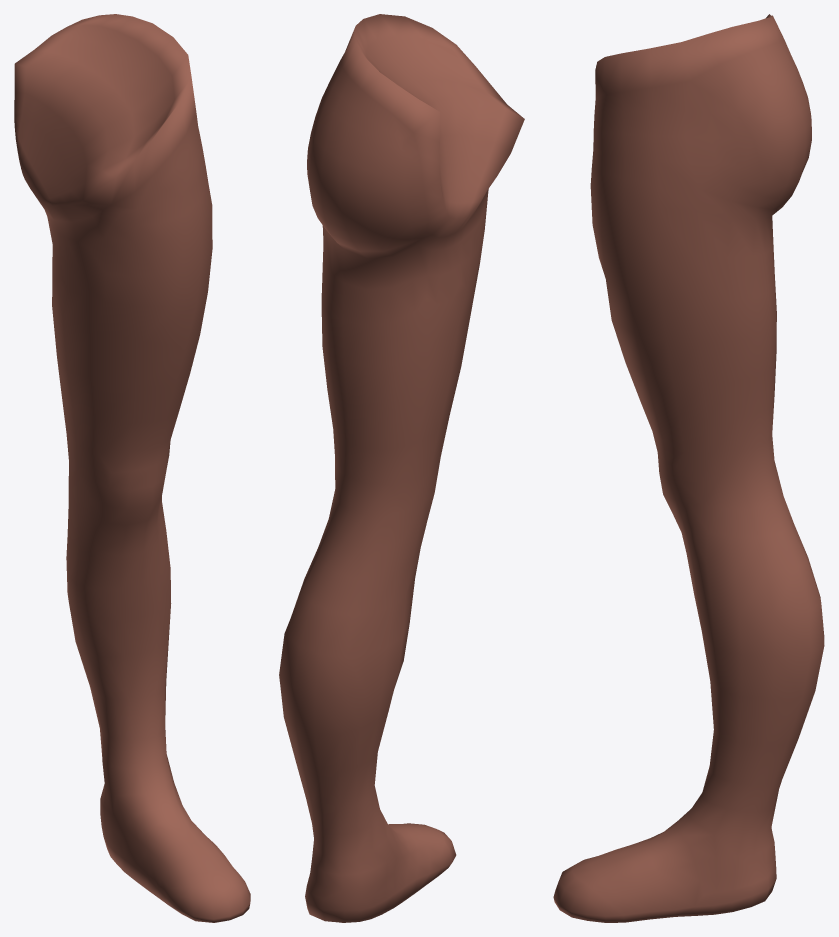
Rendered from Leg.L.fbx.
The picture shows the model from 3 angles, left to right: view 1: azimuth 30°, elevation 25°; view 2: azimuth 150°, elevation 25°; view 3: azimuth 270°, elevation 25°; orthographic projection. The views are drawn at different scales.
Parts seen in each view (by area): view 1: Leg.L; view 2: Leg.L; view 3: Leg.L.
Boxes of the visible parts, bbox=[...] form: Leg.L: bbox=[14, 14, 250, 922]; Leg.L: bbox=[279, 14, 524, 922]; Leg.L: bbox=[553, 14, 824, 922].
Bounding box in the file's own units: 74.27 × 397 × 111.
